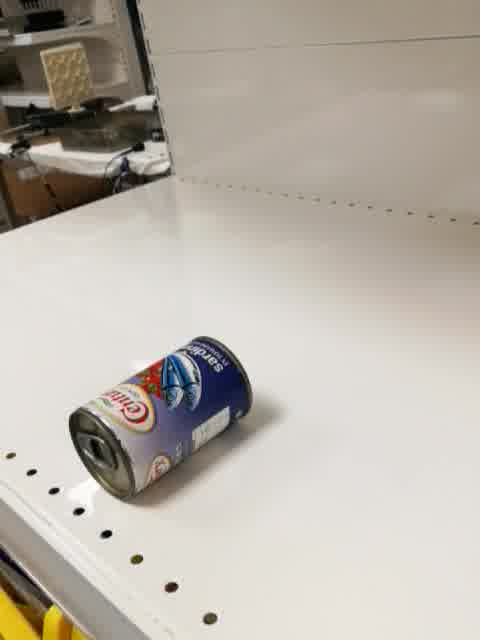sardine: (68, 334, 253, 502)
